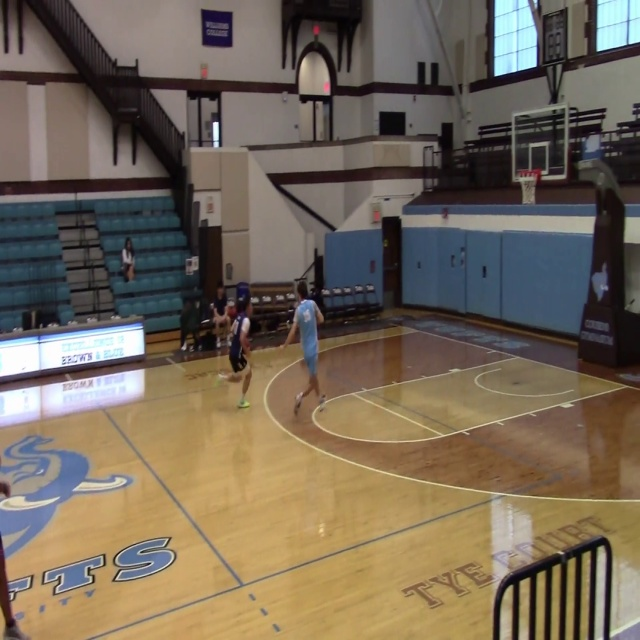Basketball: (227, 306, 237, 318)
